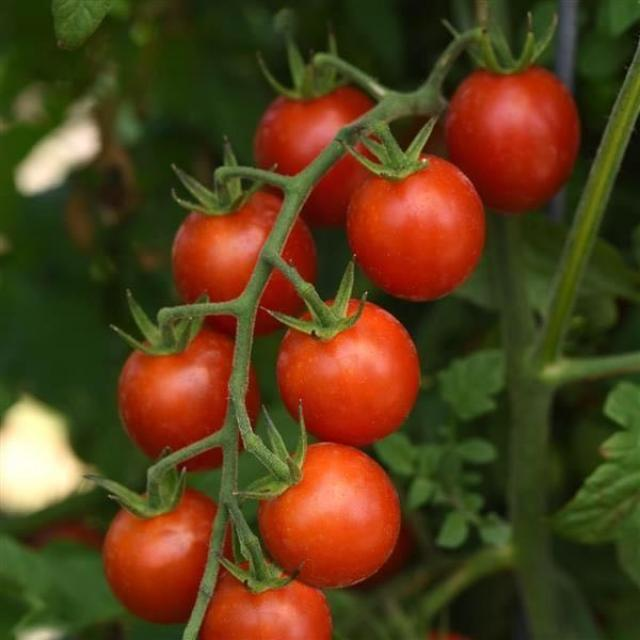tomatoes: (103, 26, 577, 640)
